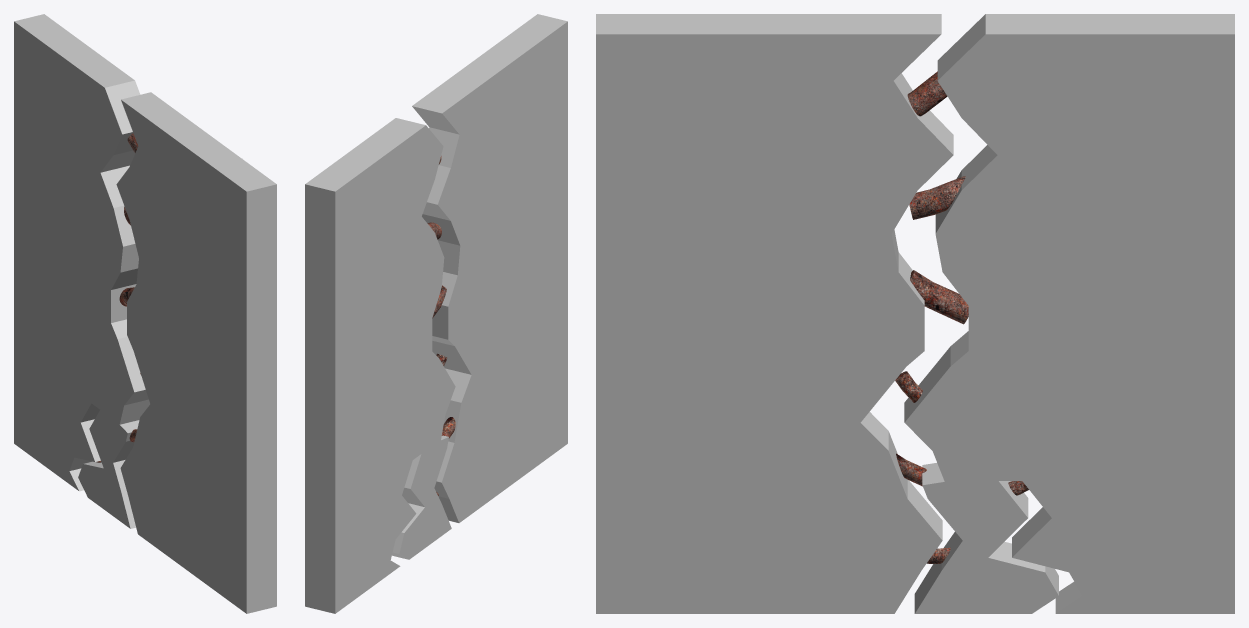
The model's file is wall 4_v2.fbx.
3 views of the same model, side by side, from view 1: azimuth 30°, elevation 25°; view 2: azimuth 150°, elevation 25°; view 3: azimuth 270°, elevation 25° (orthographic). The views are drawn at different scales.
Parts seen in each view (by area): view 1: Plane.015, Cylinder.030; view 2: Plane.015, Cylinder.030; view 3: Plane.015, Cylinder.030.
Part boxes in pixels (box(x1,y1,x2,y2)): Plane.015: box(14, 14, 276, 613); Cylinder.030: box(96, 133, 140, 462); Plane.015: box(305, 14, 567, 613); Cylinder.030: box(427, 156, 455, 495); Plane.015: box(596, 14, 1234, 613); Cylinder.030: box(895, 71, 1028, 563).
Size of the model in its own units: 15 by 200 by 200.
